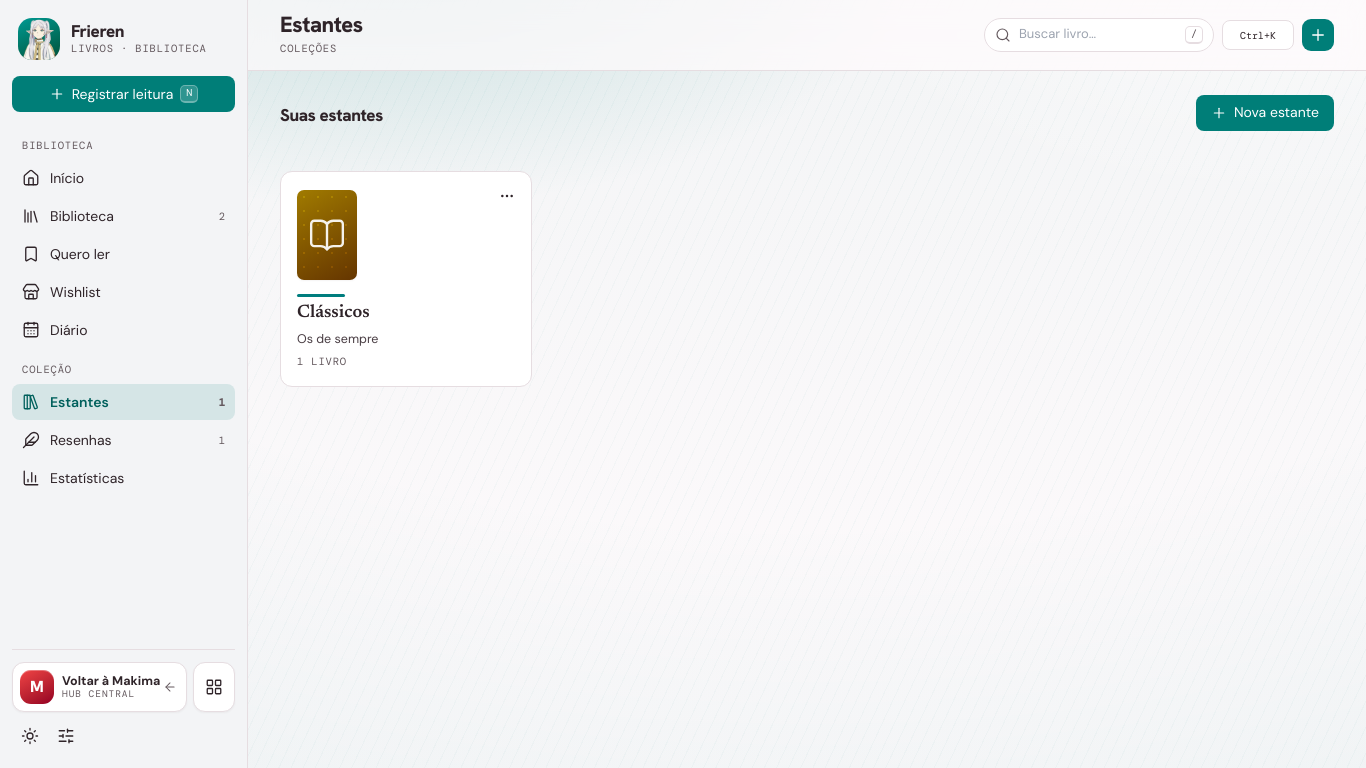
Scenario: estantes › grade com a estante e seus livros; abrir mostra os livros
Expected: the text "1 livro" is shown, x1=297 y1=354 x2=347 y2=370
Click the button with aria-label "Abrir a estante Clássicos".
click(406, 279)  # box x1=281 y1=172 x2=530 y2=386
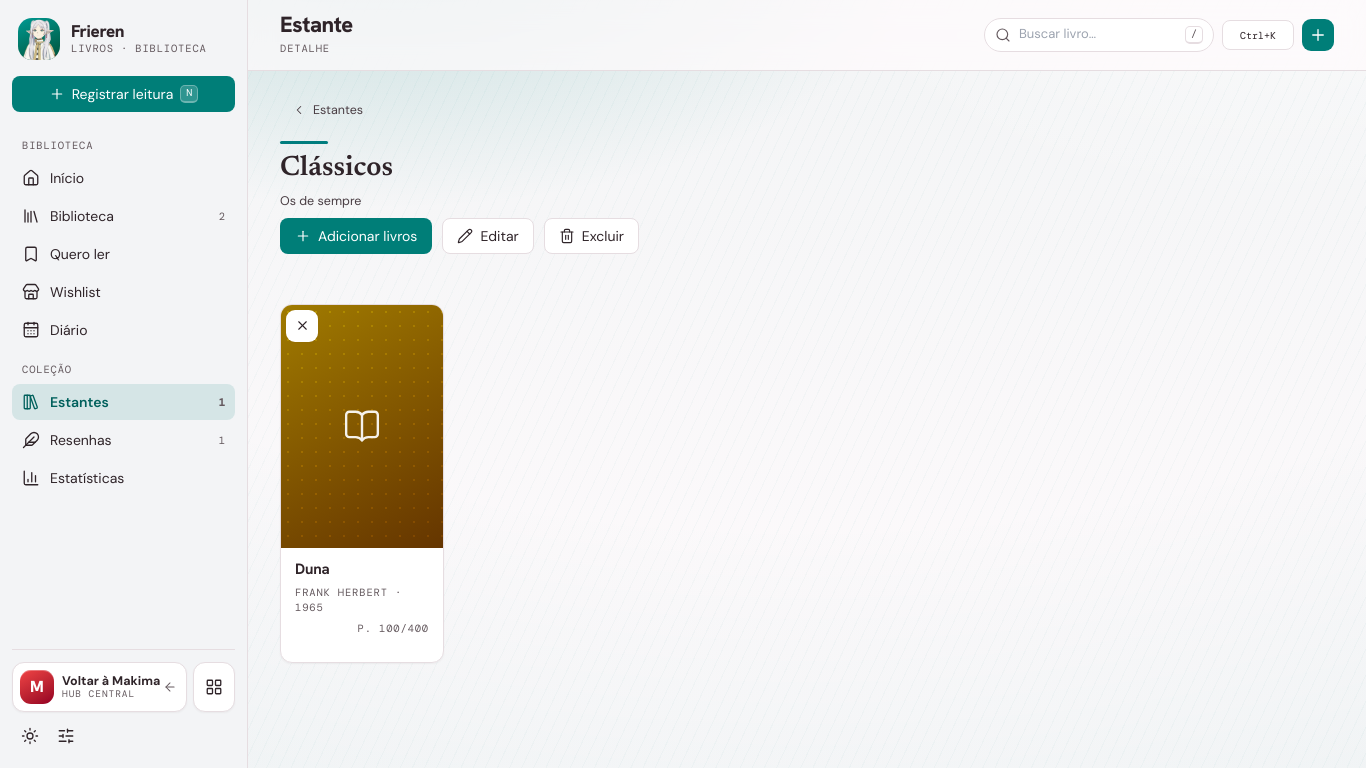
Expected: the heading "Clássicos" is shown, x1=280 y1=152 x2=393 y2=184
Expected: the heading "Duna" is shown, x1=295 y1=559 x2=330 y2=579
